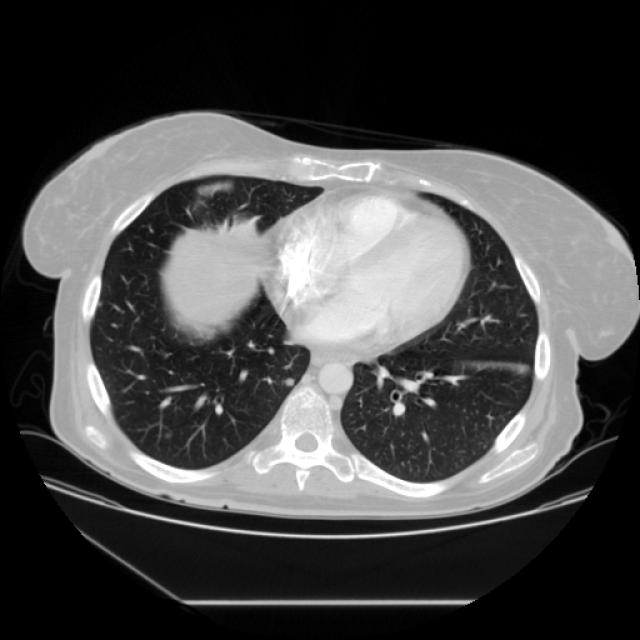nodule: (278, 370, 300, 392)
